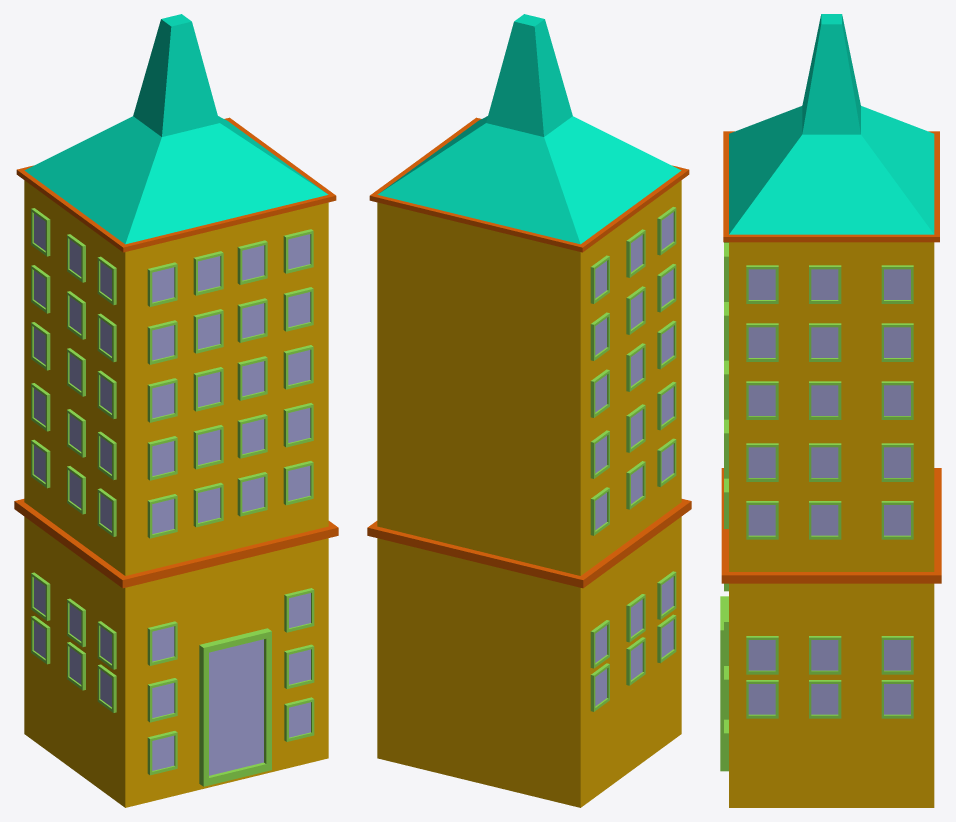
Rendered from tower.fbx.
3 views of the same model, side by side, from view 1: azimuth 30°, elevation 25°; view 2: azimuth 150°, elevation 25°; view 3: azimuth 270°, elevation 25° (orthographic).
Parts seen in each view (by area): view 1: tower4; view 2: tower4; view 3: tower4.
Part boxes in pixels (x1=…): tower4: x1=14, y1=14, x2=338, y2=807; tower4: x1=367, y1=14, x2=691, y2=807; tower4: x1=720, y1=14, x2=941, y2=807.
Bounding box in the file's own units: 383 × 1230 × 334.
